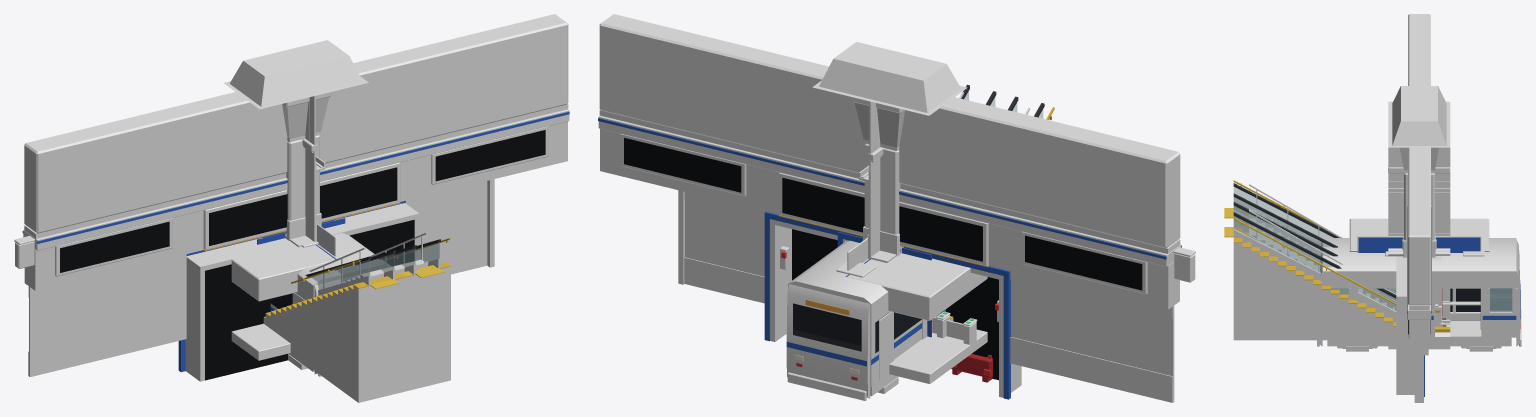
File: Station.fbx
3 renders of one model, left to right at view 1: azimuth 30°, elevation 25°; view 2: azimuth 150°, elevation 25°; view 3: azimuth 270°, elevation 25°, orthographic. The views are drawn at different scales.
Visible parts, largest first — view 1: Gantry_Beam, CorridorStair_Treads, EndWall_Tile, Gantry_Screen, Gantry_Housing, EndWall_Tunnel, EscalatorBank_Treads, EndWall_Portal, Gantry_Fascia, TicketOffice_Shell, EndWall_Dado, Coffer14_Shell (+13 smaller); view 2: Gantry_Beam, EndWall_Tile, Gantry_Screen, Gantry_Housing, TicketOffice_Shell, EndWall_Dado, Gantry_Fascia, TrainCarTail_Body, Coffer14_Shell, EndWall_Portal, EndWall_Tunnel, Coffer10_Shell (+14 smaller); view 3: CorridorStair_Treads, Gantry_Beam, TrainCarHead_Roof, EscalatorBank_Glass, TrainCarHead_Body, Coffer14_Shell, EndWall_Portal, TrainCarHead_Under, EscalatorBank_Deck, TicketOffice_Shell, EscalatorBank_Handrail, WallBay8_Field (+16 smaller).
Boxes of the visible parts, x1,y1,x2,y2 form: Gantry_Beam: [24, 14, 568, 238]; CorridorStair_Treads: [263, 266, 450, 402]; EndWall_Tile: [29, 187, 487, 352]; Gantry_Screen: [60, 130, 545, 272]; Gantry_Housing: [24, 121, 567, 290]; EndWall_Tunnel: [205, 219, 414, 380]; EscalatorBank_Treads: [370, 274, 439, 399]; EndWall_Portal: [185, 179, 494, 381]; Gantry_Fascia: [23, 109, 569, 250]; TicketOffice_Shell: [223, 239, 334, 360]; EndWall_Dado: [28, 241, 487, 376]; Coffer14_Shell: [224, 40, 368, 109]; Gantry_Beam: [599, 14, 1180, 253]; EndWall_Tile: [685, 200, 1174, 376]; Gantry_Screen: [624, 137, 1142, 290]; Gantry_Housing: [600, 129, 1179, 309]; TicketOffice_Shell: [848, 255, 987, 383]; EndWall_Dado: [684, 257, 1174, 402]; Gantry_Fascia: [598, 115, 1181, 266]; TrainCarTail_Body: [786, 284, 921, 398]; Coffer14_Shell: [812, 42, 967, 115]; EndWall_Portal: [678, 190, 1021, 397]; EndWall_Tunnel: [792, 229, 998, 380]; Coffer10_Shell: [830, 46, 929, 111]; CorridorStair_Treads: [1233, 242, 1396, 340]; Gantry_Beam: [1408, 14, 1430, 310]; TrainCarHead_Roof: [1322, 238, 1516, 274]; EscalatorBank_Glass: [1233, 187, 1396, 310]; TrainCarHead_Body: [1319, 242, 1516, 346]; Coffer14_Shell: [1388, 86, 1450, 147]; EndWall_Portal: [1396, 256, 1423, 402]; TrainCarHead_Under: [1327, 321, 1511, 351]; EscalatorBank_Deck: [1233, 200, 1396, 322]; TicketOffice_Shell: [1349, 218, 1489, 320]; EscalatorBank_Handrail: [1233, 183, 1396, 298]; WallBay8_Field: [1388, 181, 1450, 300].
Bounding box in the file's own units: 70 × 35 × 38.4.
